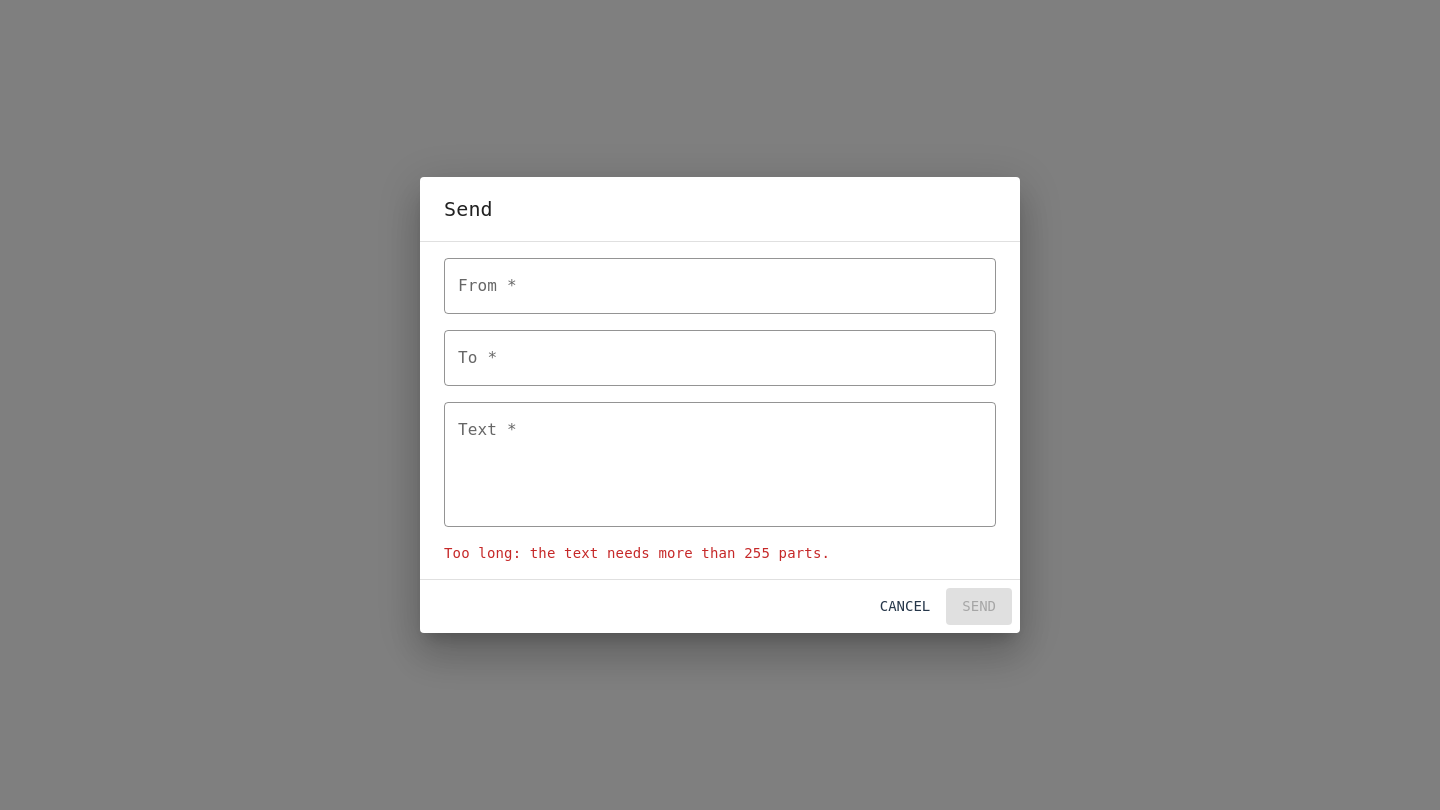
Scenario: SendMessageDialog › flags an invalid sender once the field is left
Type "EllaNetworks" into the field labelled "From".
click(720, 286); type("EllaNetworks")  # box [444,258,996,314]
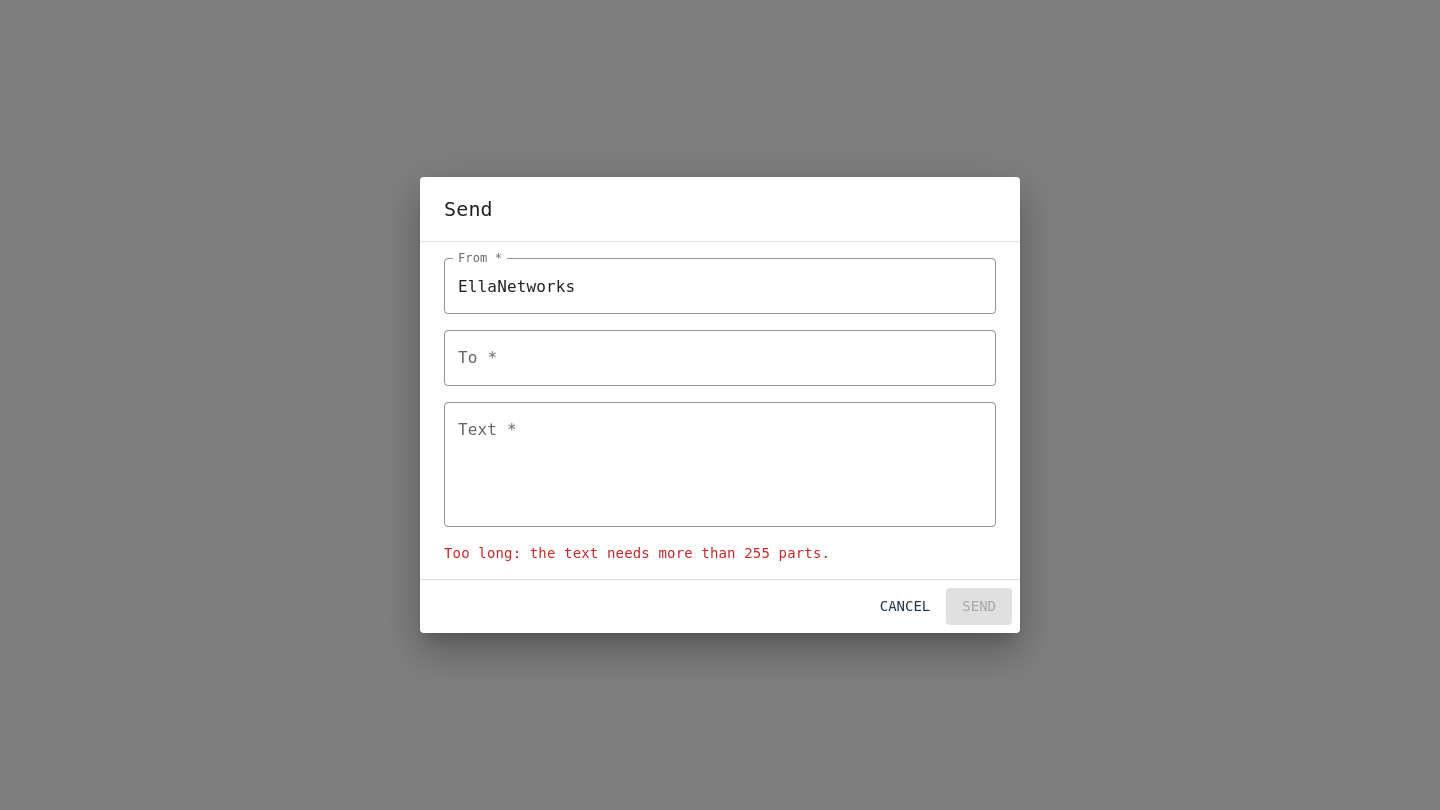
Leave the field labelled "From", box [444,258,996,314]
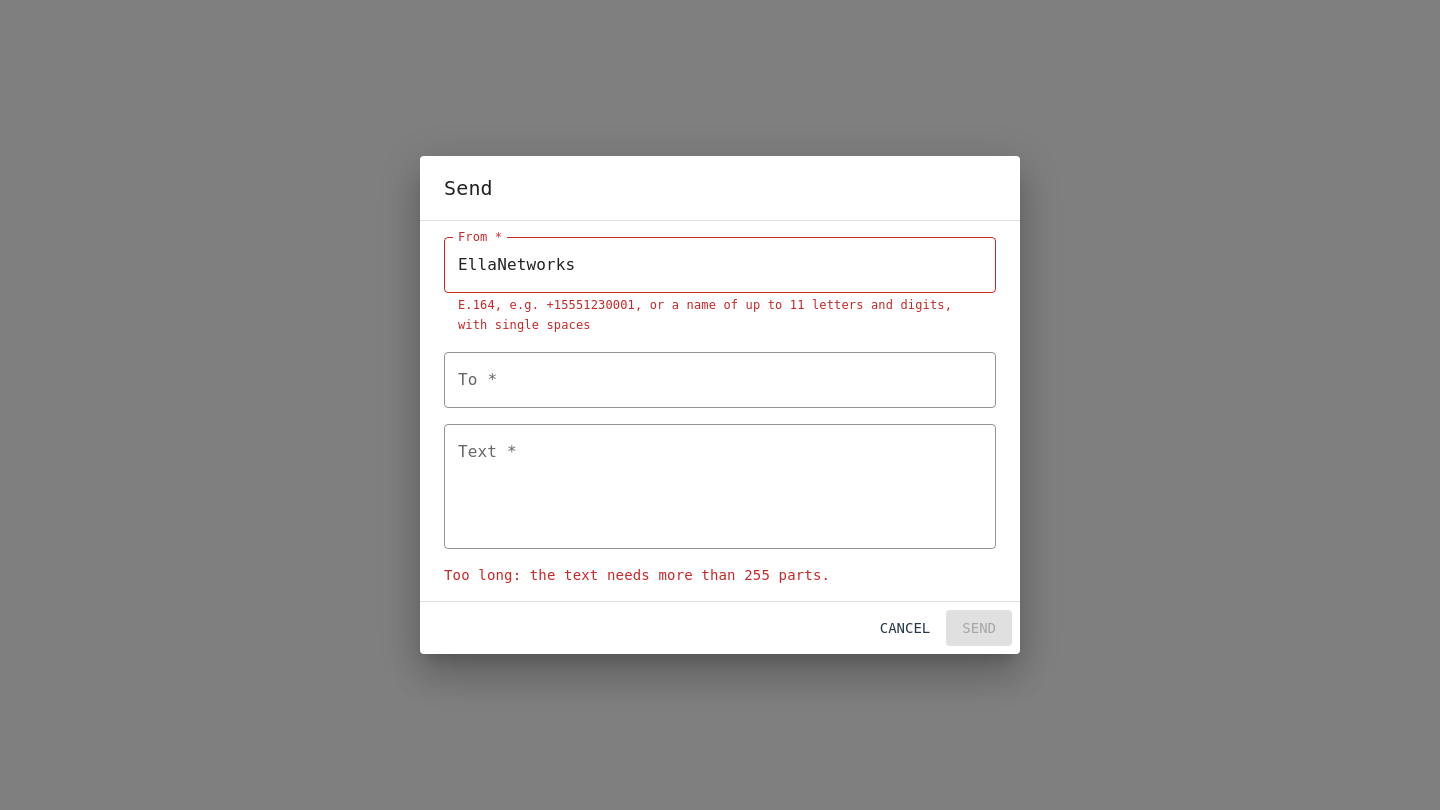
Check: the button "Send" is disabled, box [946,610,1012,646]
Check: the text "E.164, e.g. +15551230001, or a name of up to 11 letters and digits, with single spaces" is shown, box [458,298,952,332]
